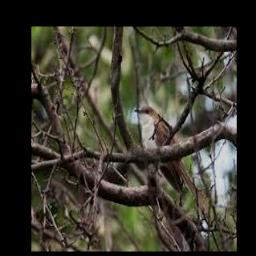Cuckoo: (134, 106, 209, 211)
